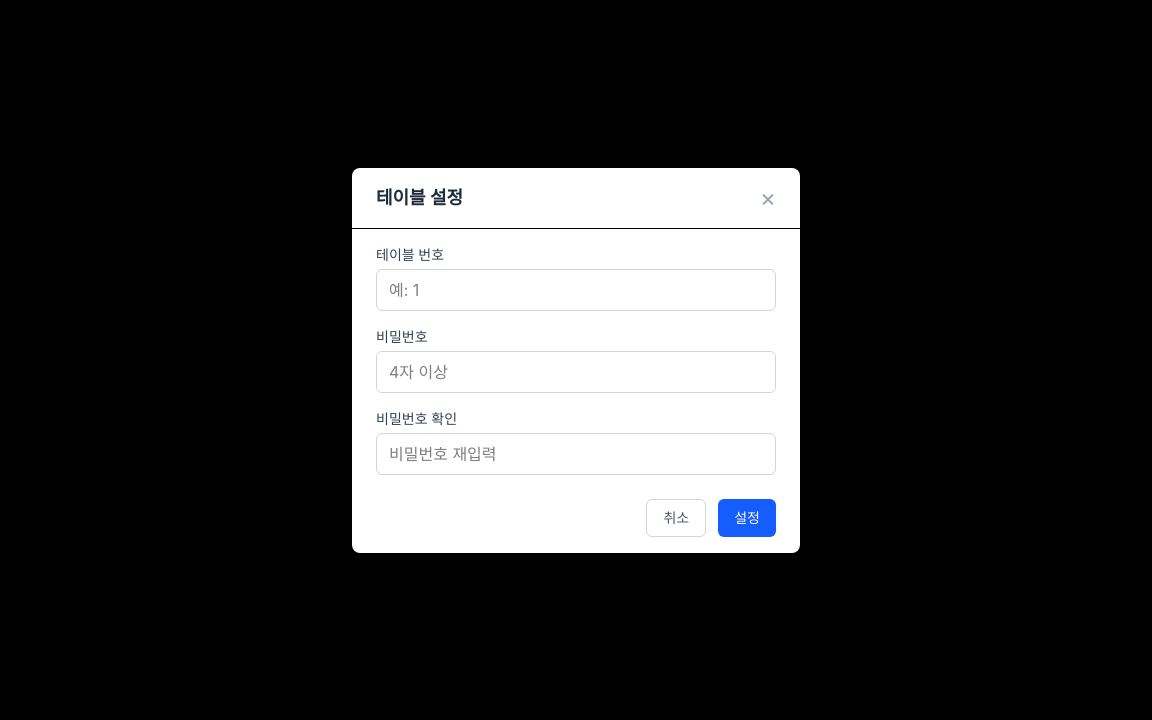
Scenario: TableSetupForm › 비밀번호 불일치 시 에러 메시지를 표시한다
In the number field with test id "table-setup-number-input": (576,290) [376, 268, 776, 310], type "1"
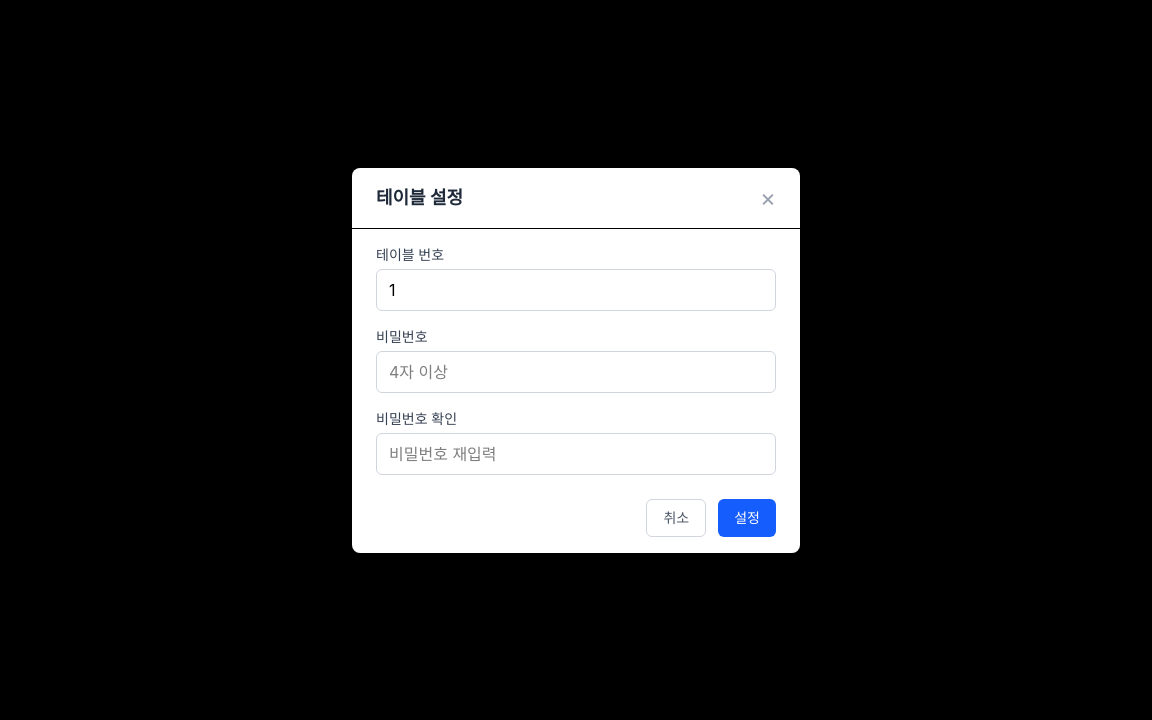
In the password field with test id "table-setup-password-input": (576,372) [376, 350, 776, 392], type "1234"
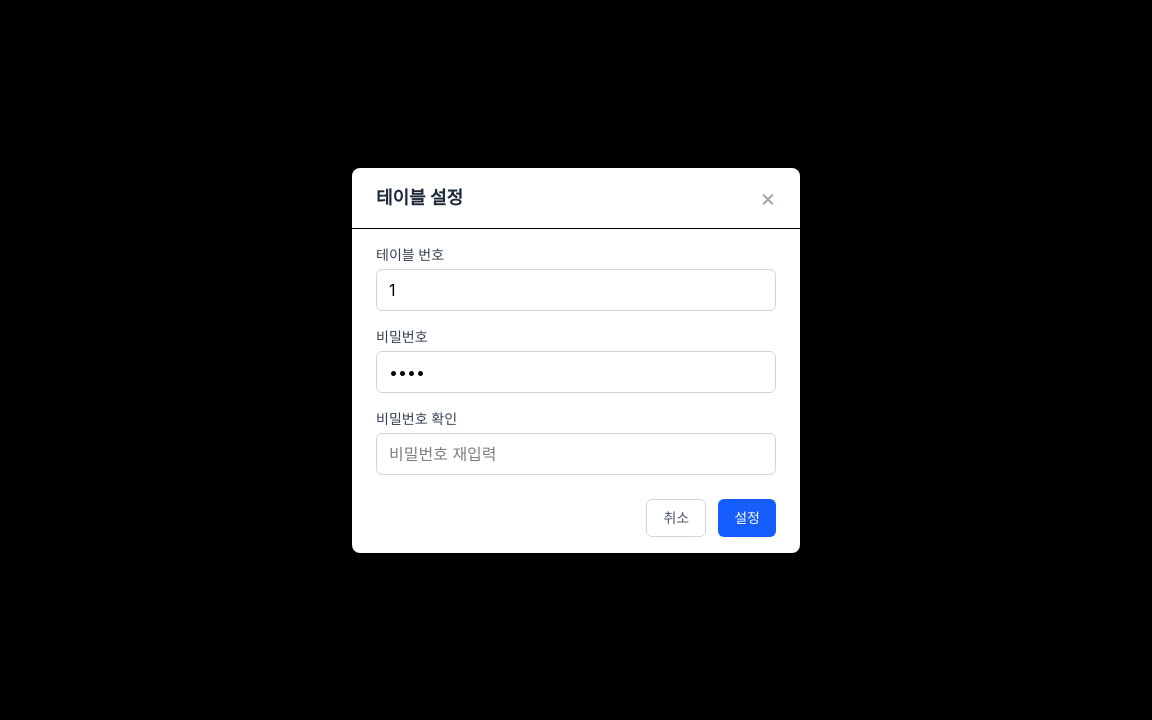
In the password field with test id "table-setup-password-confirm-input": (576,454) [376, 432, 776, 474], type "5678"
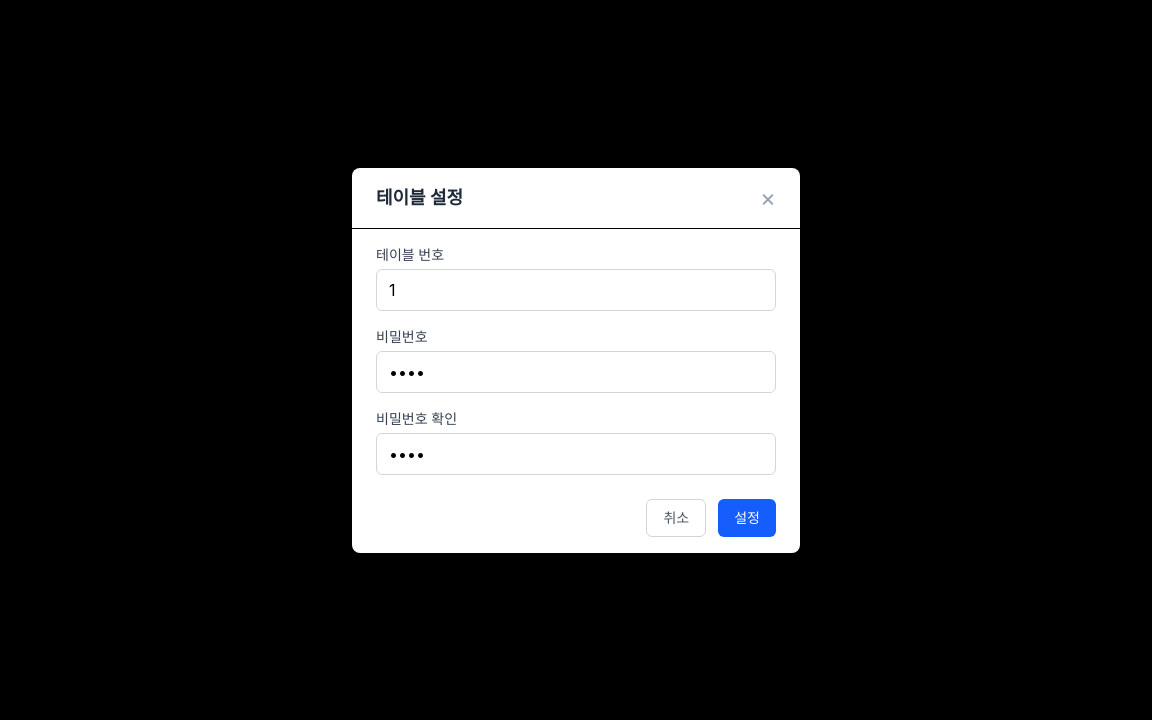
Submit the form with test id "table-setup-form", box [352, 228, 800, 552]
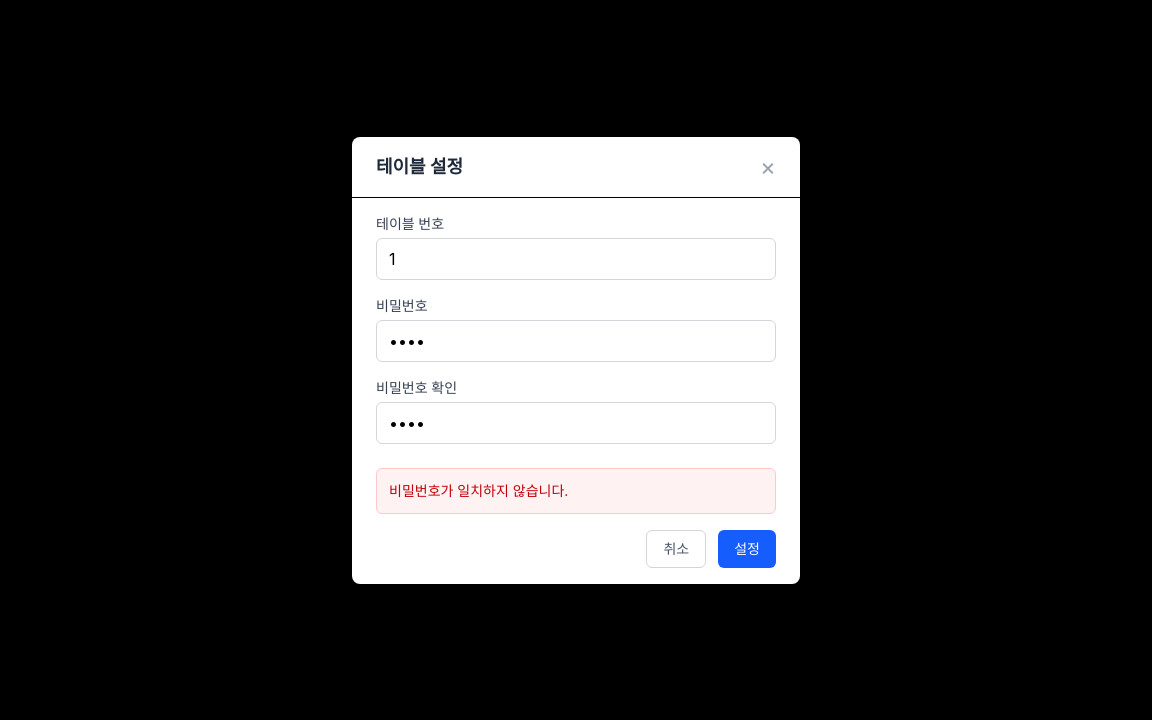
expect the message with test id "table-setup-error-message" reads "비밀번호가 일치하지 않습니다.": met, box [389, 482, 568, 498]
